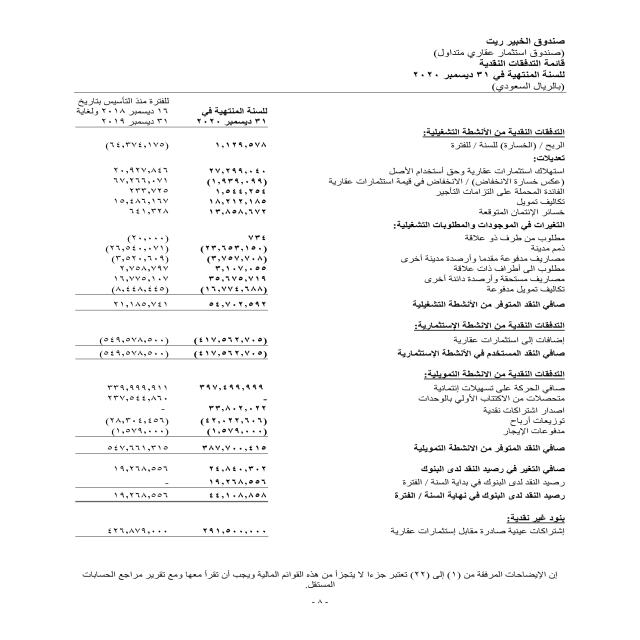financial_sheets: (472, 59, 582, 72)
table: (30, 128, 304, 570)
